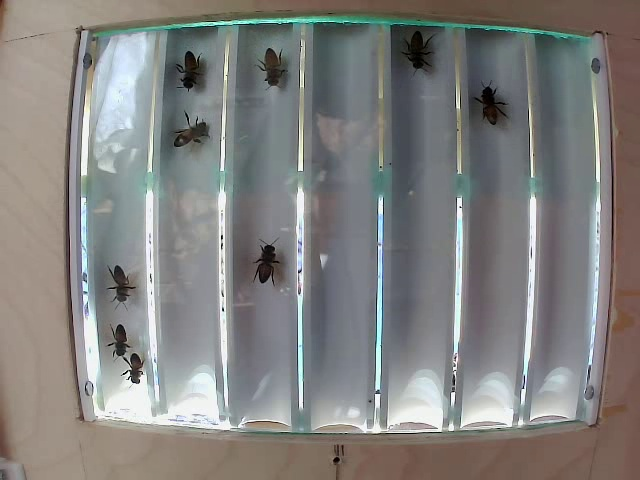bee: (172, 109, 210, 158), (255, 238, 294, 285), (396, 29, 433, 78), (476, 82, 508, 138), (176, 50, 212, 94), (119, 345, 153, 389), (254, 47, 286, 90), (103, 263, 133, 307), (100, 312, 127, 352)
